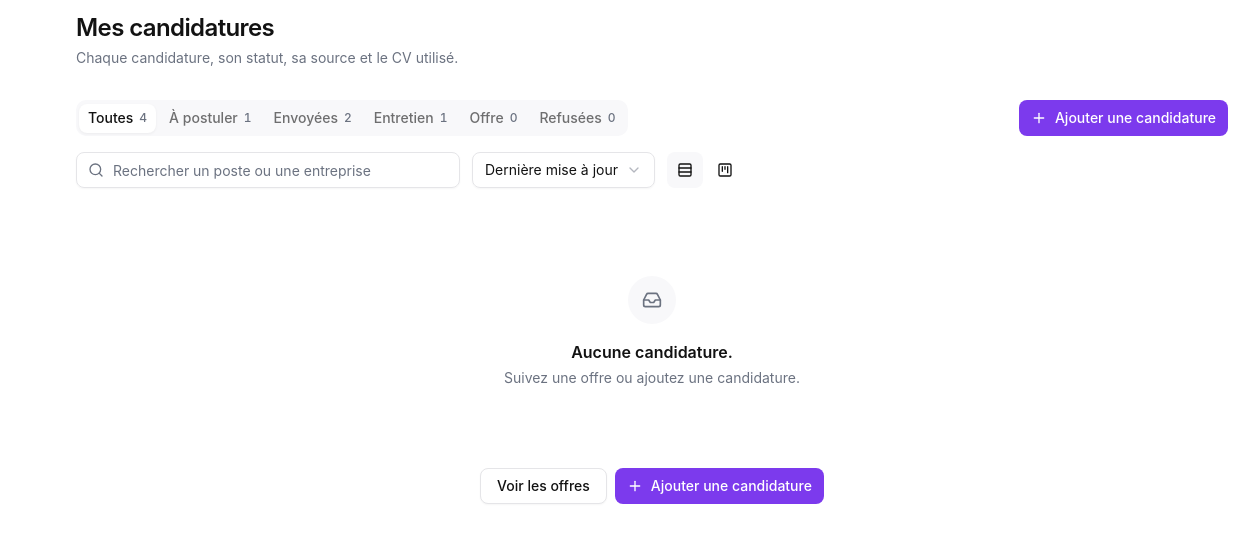
Scenario: ApplicationsPage › filtre par onglet et transmet l_onglet a l_API
Click the tab "Entretien 1" at (411, 118), box [365, 104, 456, 132]
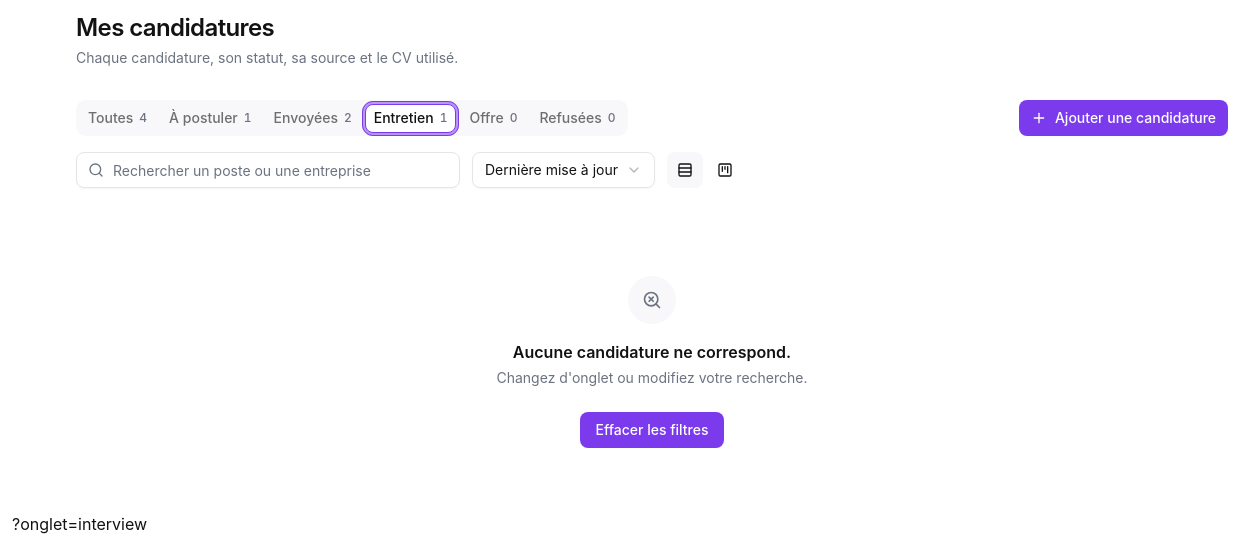
Result: the text with test id "search" reads "?onglet=interview" at [12, 514, 147, 534]
